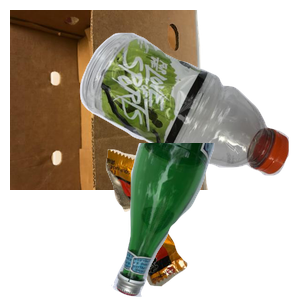cardboard: (10, 10, 211, 190)
glass: (109, 143, 300, 300)
plastic: (77, 30, 300, 198)
trash: (103, 147, 300, 300)
